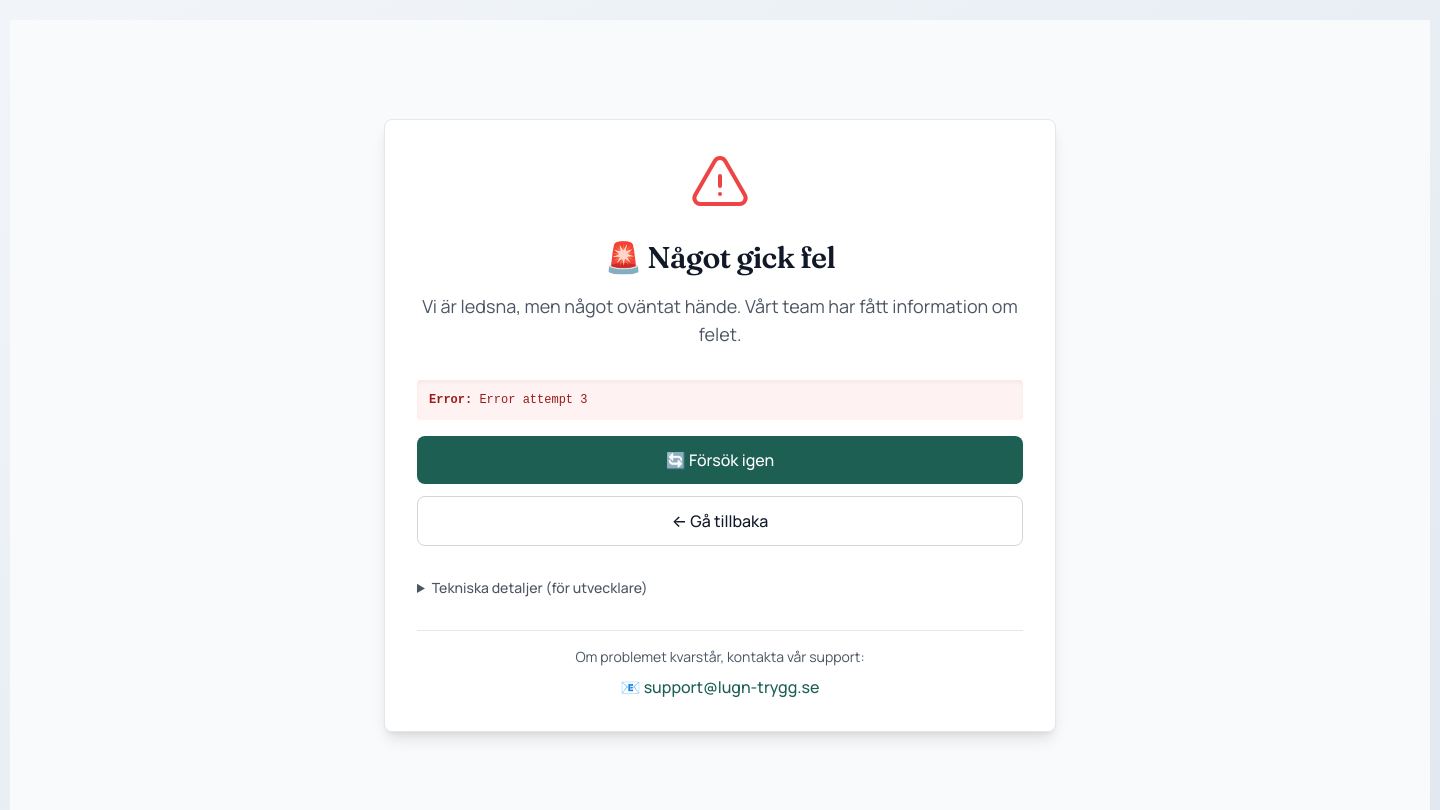
Test: ErrorBoundary Component › shows reload button when max retries exceeded
Click the button "🔄 Försök igen". click: coordinates (720, 460)
box: [417,436,1023,484]
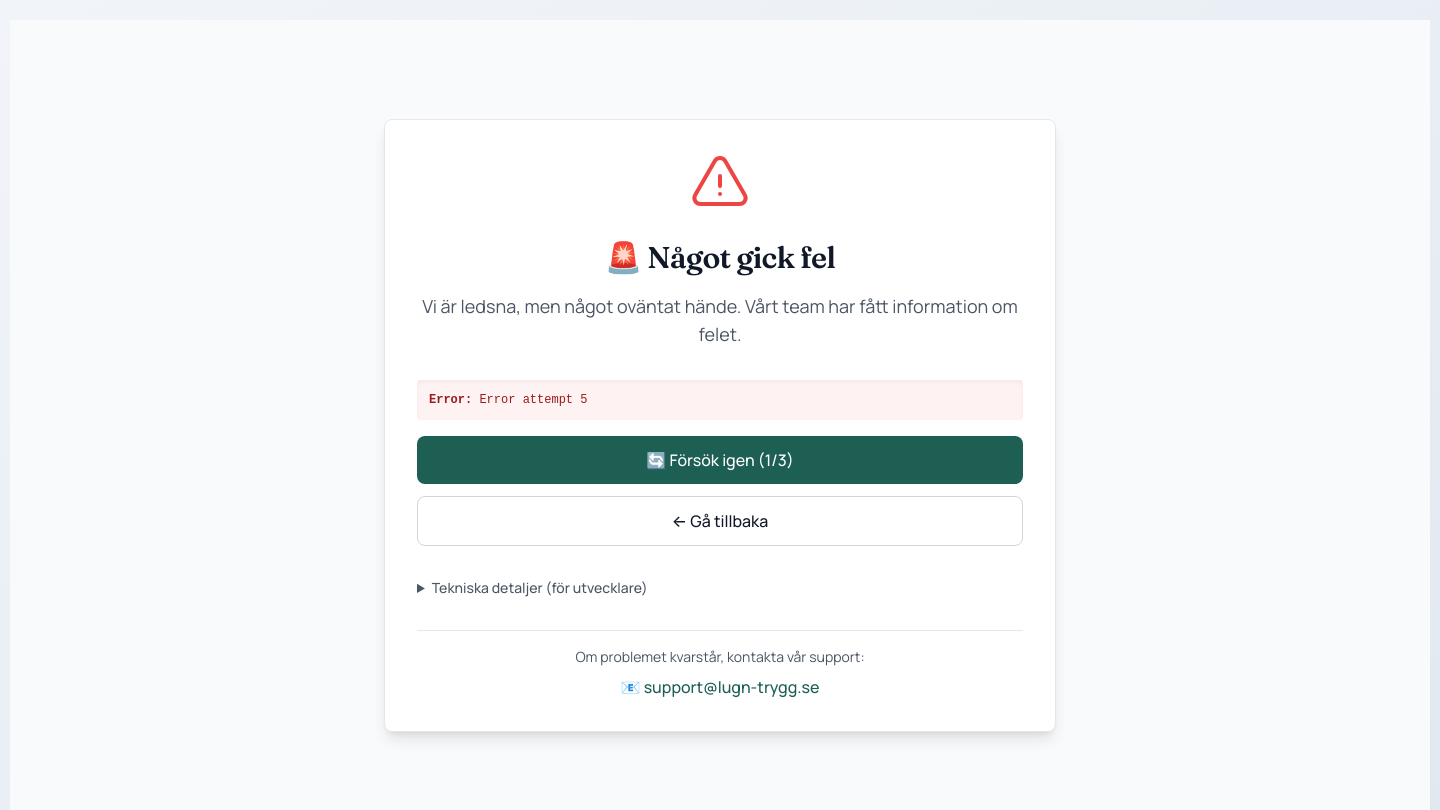
Click the button "🔄 Försök igen (1/3)". click: coordinates (720, 460)
box: [417,436,1023,484]
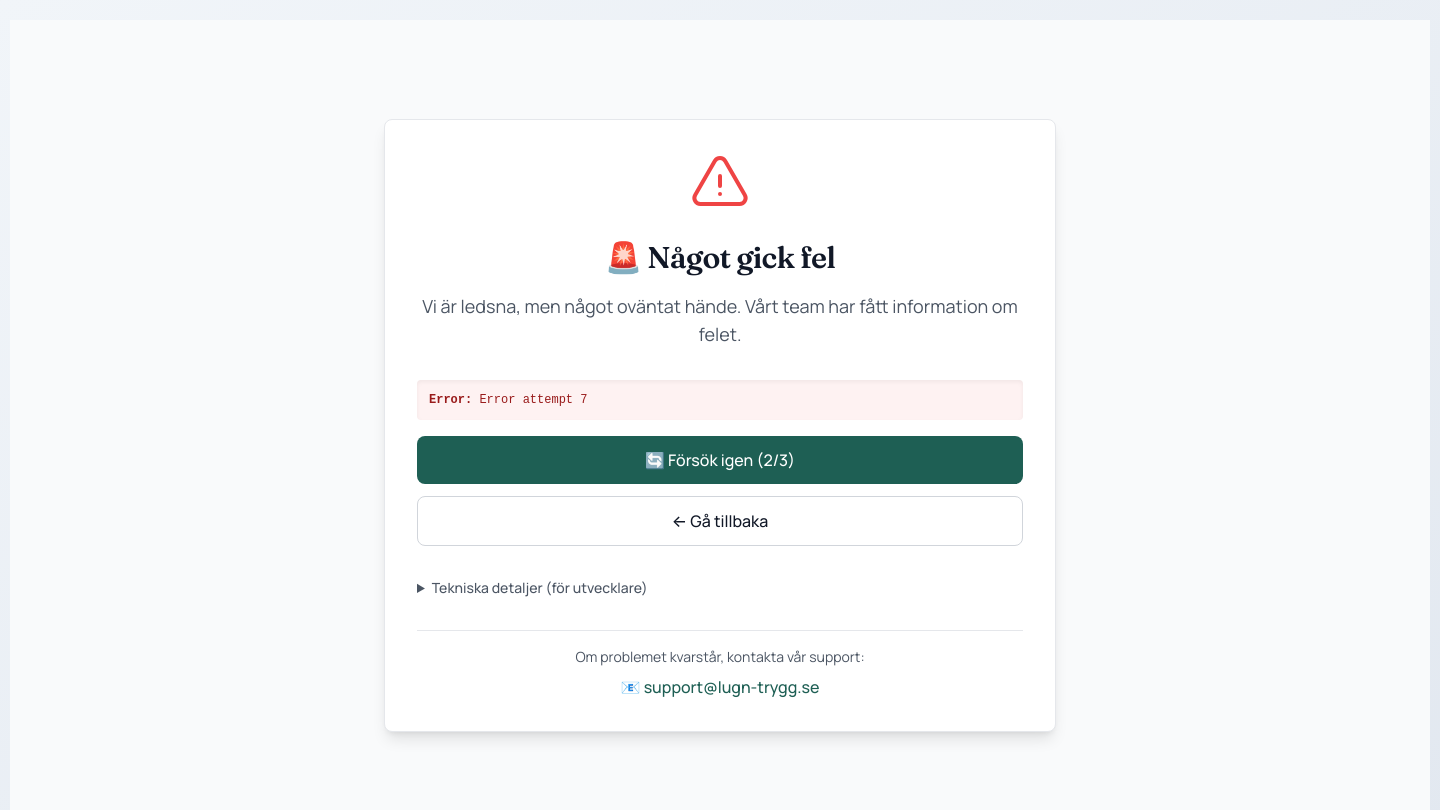
Click the button "🔄 Försök igen (2/3)". click: coordinates (720, 460)
box: [417,436,1023,484]
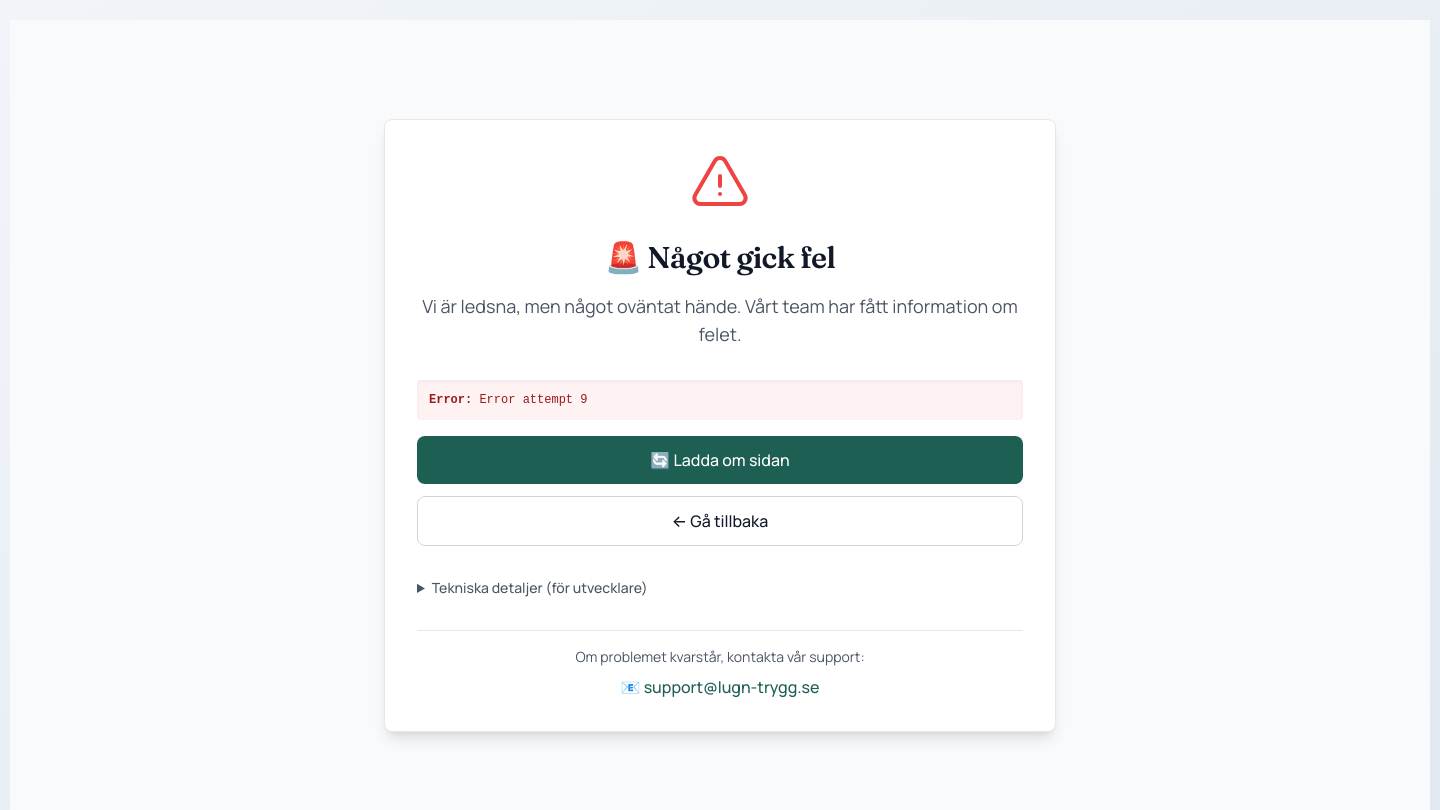
Check: the button "🔄 Ladda om sidan" is shown, box [417,436,1023,484]
